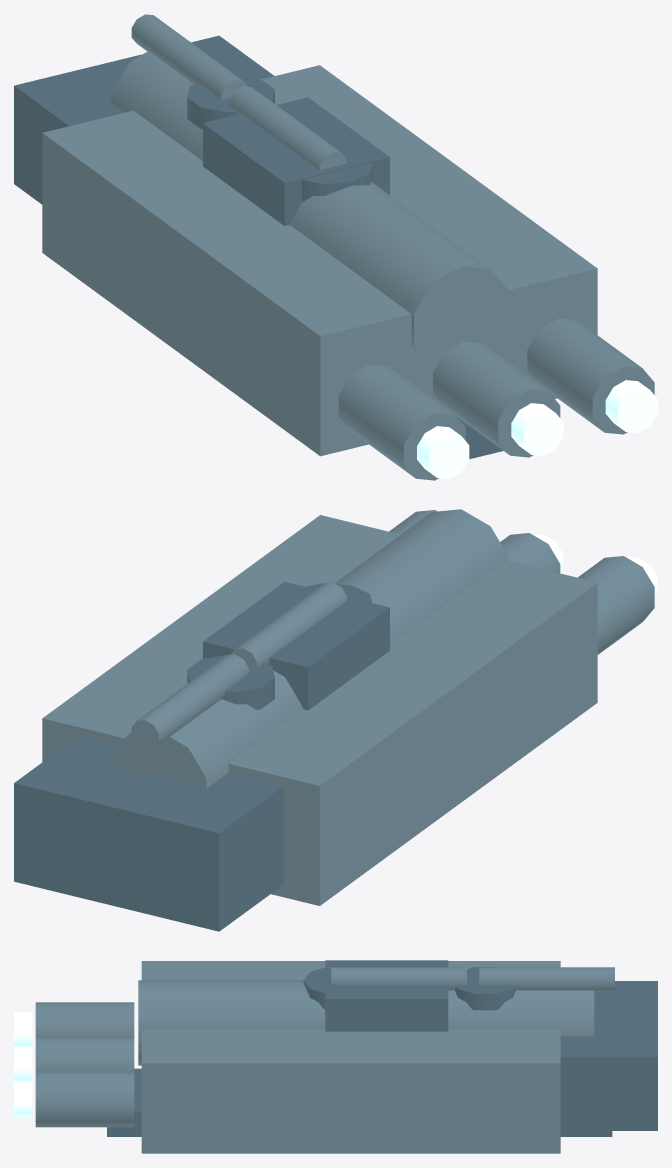
The model's file is siege_ship.glb.
3 renders of one model, top to bottom at view 1: azimuth 30°, elevation 25°; view 2: azimuth 150°, elevation 25°; view 3: azimuth 270°, elevation 25°, orthographic. The views are drawn at different scales.
Parts seen in each view (by area): view 1: MainHull, SiegeSpine, Bridge, ForeHull, Engine0, Engine2, Engine1, TurretBarrel0, TurretBarrel1, EngineGlow1, EngineGlow0, EngineGlow2 (+3 smaller); view 2: MainHull, ForeHull, SiegeSpine, Bridge, Engine0, TurretBarrel0, TurretBarrel1, Turret0, Engine1; view 3: MainHull, SiegeSpine, ForeHull, Bridge, Engine2, Engine0, Engine1, TurretBarrel0, TurretBarrel1, Turret0, Keel, EngineGlow2 (+3 smaller).
Boxes of the visible parts, box(x1,y1,x2,y2) form: MainHull: box(42, 65, 597, 456); SiegeSpine: box(111, 51, 508, 368); Bridge: box(203, 97, 389, 225); ForeHull: box(14, 35, 274, 204); Engine0: box(338, 364, 465, 480); Engine2: box(527, 318, 654, 434); Engine1: box(433, 341, 560, 457); TurretBarrel0: box(131, 14, 247, 99); TurretBarrel1: box(229, 86, 346, 170); EngineGlow1: box(511, 403, 563, 455); EngineGlow0: box(417, 426, 469, 478); EngineGlow2: box(605, 380, 657, 432); MainHull: box(42, 515, 597, 905); ForeHull: box(14, 736, 283, 931); SiegeSpine: box(111, 509, 508, 788); Bridge: box(203, 582, 389, 710); Engine0: box(578, 556, 654, 654); TurretBarrel0: box(131, 654, 248, 750); TurretBarrel1: box(230, 582, 346, 667); Turret0: box(187, 654, 274, 709); Engine1: box(500, 533, 560, 573); MainHull: box(141, 961, 560, 1153); SiegeSpine: box(138, 980, 594, 1065); ForeHull: box(560, 981, 657, 1130); Bridge: box(325, 960, 448, 1031); Engine2: box(35, 1071, 134, 1127); Engine0: box(35, 1002, 134, 1036); Engine1: box(35, 1037, 134, 1071); TurretBarrel0: box(479, 967, 614, 991); TurretBarrel1: box(331, 967, 466, 990); Turret0: box(454, 967, 515, 1010); Keel: box(107, 1068, 612, 1136); EngineGlow2: box(14, 1081, 32, 1117).
Size of the model in its own units: 2.9 by 1.95 by 7.73.
